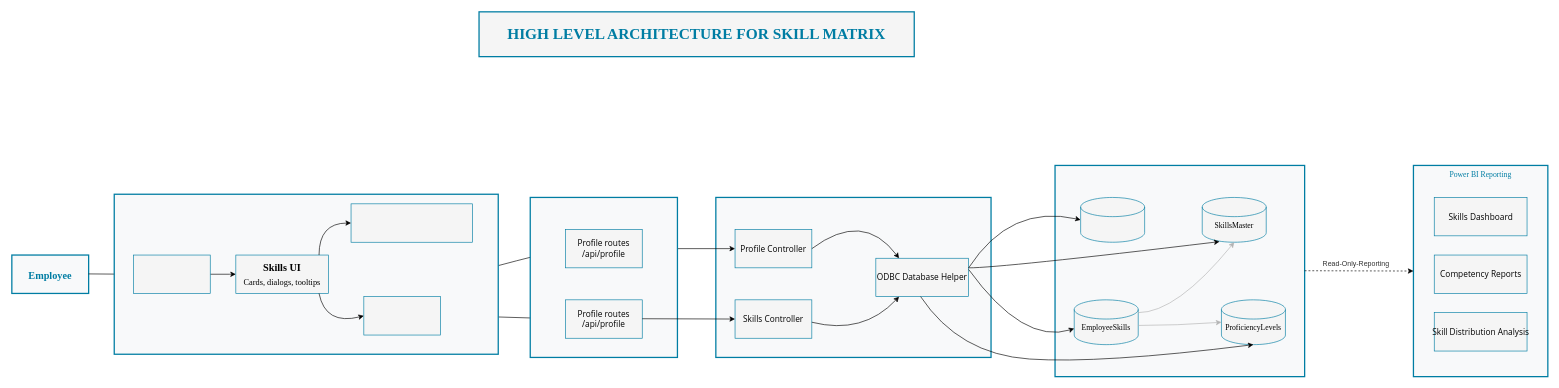
This 1559x388 diagram has some shape labels left out. The box of each missing label's shape, as (x1, y1, x2, y2) in pixels:
Axios API Service: (363, 296, 441, 335)
Client-side search, sort, pagination: (350, 203, 473, 242)
EmployeeProfile: (1080, 197, 1145, 242)
Express Backend: (715, 196, 991, 358)
Microsoft SQL Server: (1054, 164, 1305, 377)
Profile Page: (133, 254, 210, 293)
React Frontend: (113, 193, 499, 355)
REST API: (529, 196, 678, 358)
